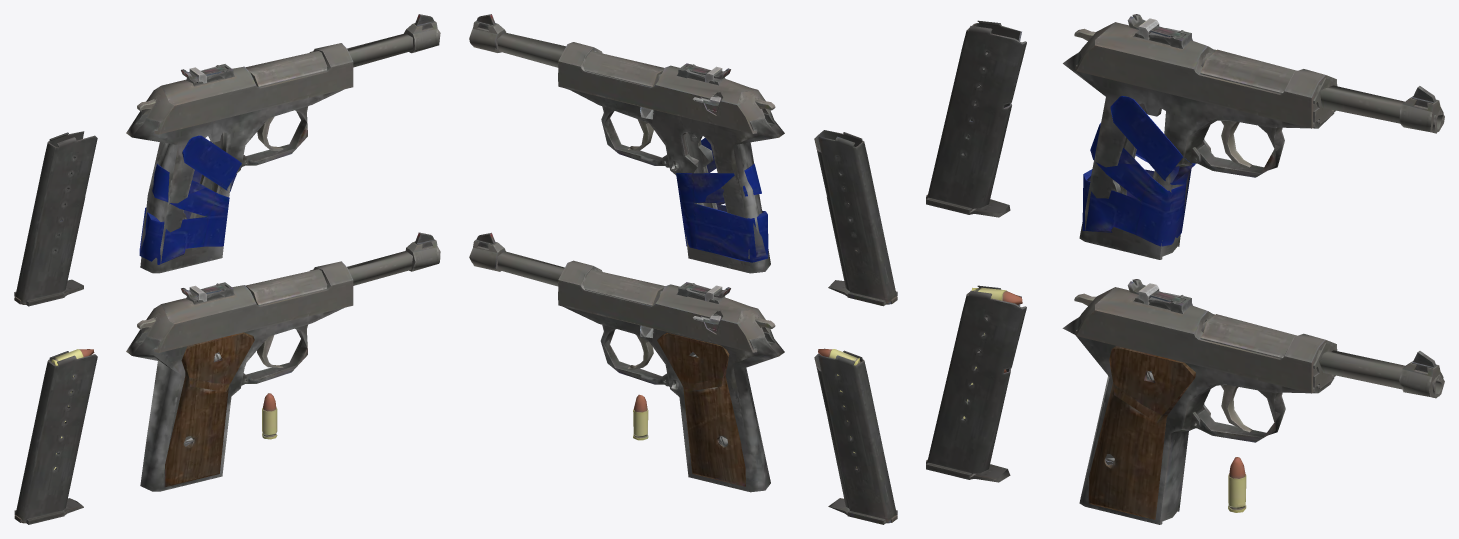
File: service_pistol.glb
The picture shows the model from 3 angles, left to right: view 1: azimuth 30°, elevation 25°; view 2: azimuth 150°, elevation 25°; view 3: azimuth 330°, elevation 25°; orthographic projection. The views are drawn at different scales.
Parts seen in each view (by area): view 1: service_pistol_pistol_b, service_pistol_pistol_a, service_pistol_magazine_loaded, service_pistol_magazine_empty, service_pistol_slide_b, service_pistol_slide_a, service_pistol_bullet; view 2: service_pistol_pistol_b, service_pistol_pistol_a, service_pistol_magazine_empty, service_pistol_magazine_loaded, service_pistol_slide_b, service_pistol_slide_a, service_pistol_bullet; view 3: service_pistol_pistol_b, service_pistol_pistol_a, service_pistol_magazine_empty, service_pistol_magazine_loaded, service_pistol_slide_a, service_pistol_slide_b, service_pistol_bullet, service_pistol_trigger_b, service_pistol_trigger_a.
Boxes of the visible parts, x1,y1,x2,y2 form: service_pistol_pistol_b: [126, 14, 440, 273]; service_pistol_pistol_a: [126, 232, 440, 491]; service_pistol_magazine_loaded: [14, 349, 97, 524]; service_pistol_magazine_empty: [14, 131, 97, 306]; service_pistol_slide_b: [141, 43, 353, 134]; service_pistol_slide_a: [141, 261, 353, 352]; service_pistol_bullet: [262, 393, 277, 439]; service_pistol_pistol_b: [469, 14, 784, 273]; service_pistol_pistol_a: [469, 232, 784, 492]; service_pistol_magazine_empty: [814, 130, 897, 306]; service_pistol_magazine_loaded: [814, 348, 897, 524]; service_pistol_slide_b: [558, 42, 773, 133]; service_pistol_slide_a: [558, 260, 773, 352]; service_pistol_bullet: [633, 394, 648, 440]; service_pistol_pistol_b: [1063, 49, 1444, 259]; service_pistol_pistol_a: [1062, 314, 1444, 524]; service_pistol_magazine_empty: [926, 20, 1026, 217]; service_pistol_magazine_loaded: [926, 285, 1026, 482]; service_pistol_slide_a: [1075, 279, 1336, 393]; service_pistol_slide_b: [1075, 14, 1336, 128]; service_pistol_bullet: [1228, 457, 1246, 512]; service_pistol_trigger_b: [1221, 121, 1252, 168]; service_pistol_trigger_a: [1221, 385, 1252, 433].
Bounding box in the file's own units: 0.3016 × 0.2807 × 0.0313.
Materials: 1 (1 with a texture image).
